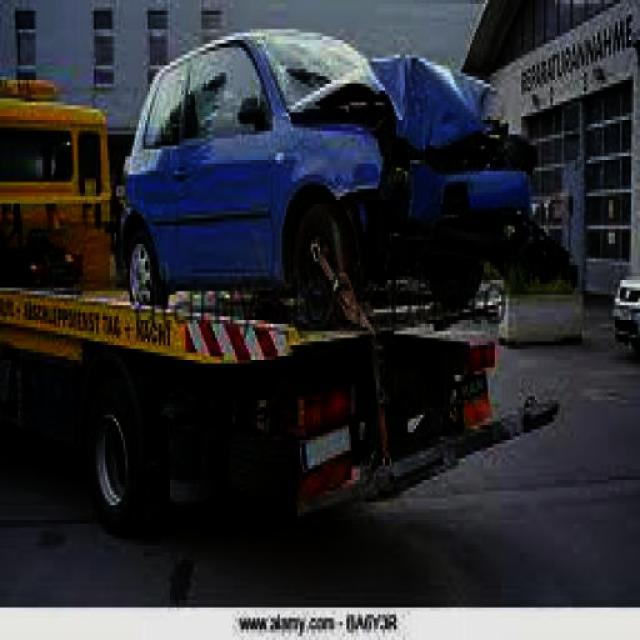car damage: (273, 34, 535, 286)
